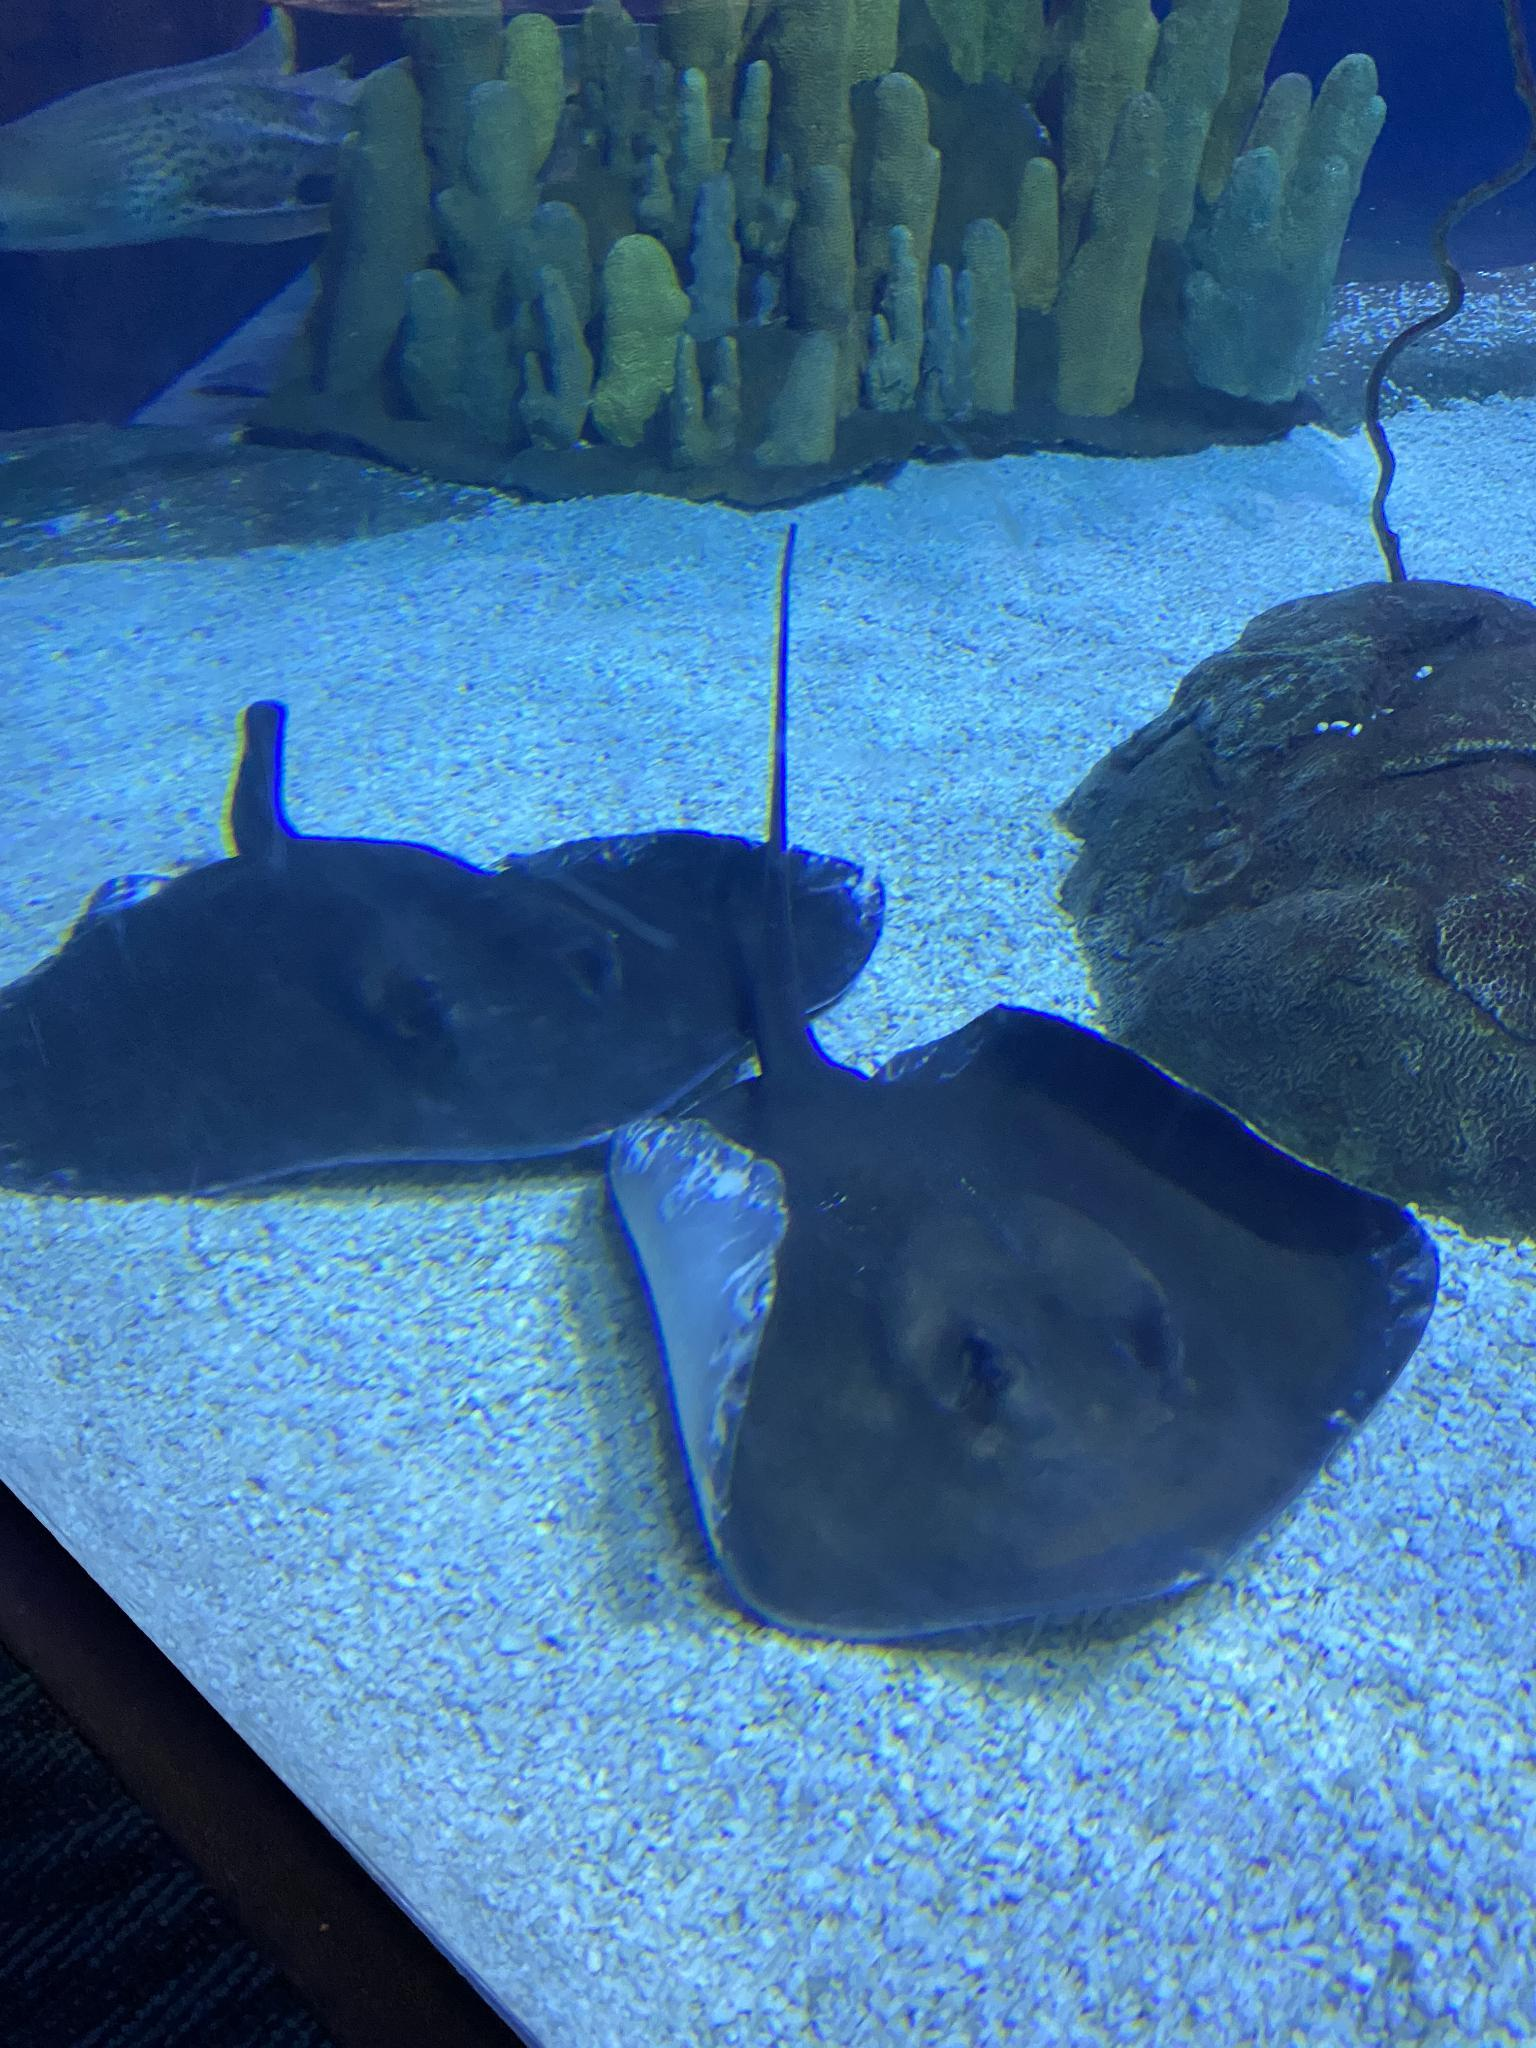shark: (0, 2, 484, 261)
stingray: (591, 1003, 1434, 1643), (0, 829, 891, 1201)
